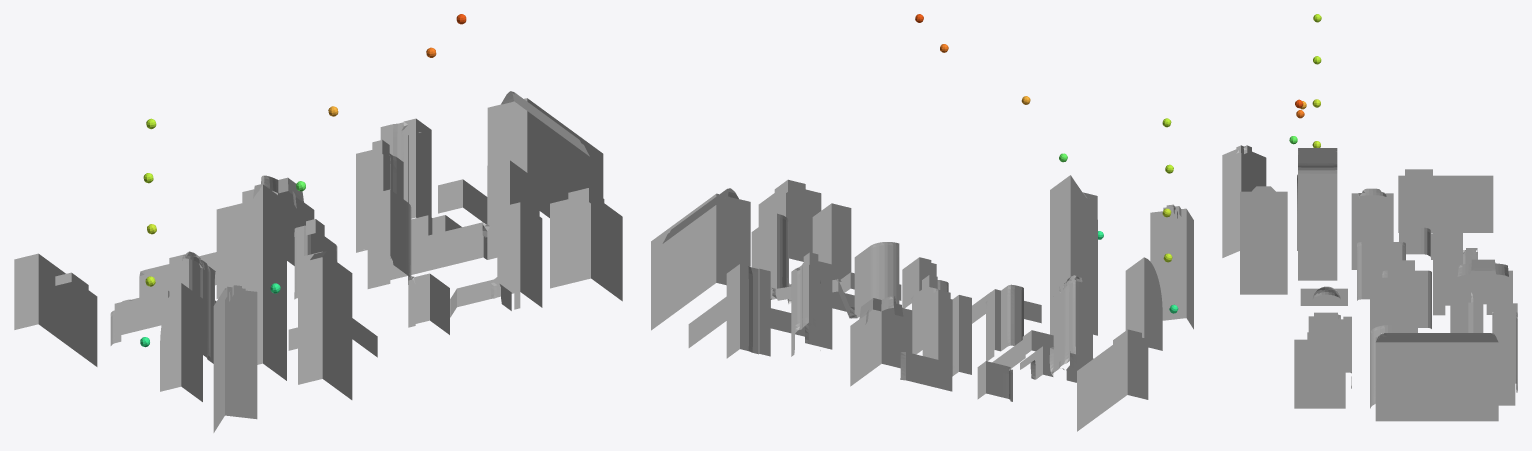
File: wabAnim_Attempt2_v1.1.glb
3 views of the same model, side by side, from view 1: azimuth 30°, elevation 25°; view 2: azimuth 150°, elevation 25°; view 3: azimuth 270°, elevation 25° (orthographic). The views are drawn at different scales.
Visible parts, largest first — view 1: mesh0, Renderer Node; view 2: mesh0, Renderer Node; view 3: mesh0, Renderer Node.
Part boxes in pixels (x1,y1,x2,y2): mesh0: [14, 91, 622, 432]; Renderer Node: [140, 14, 466, 347]; mesh0: [651, 175, 1193, 431]; Renderer Node: [915, 14, 1178, 313]; mesh0: [1222, 145, 1517, 421]; Renderer Node: [1289, 14, 1321, 147].
Size of what is drawn, in the model's own units: 229 by 137 by 140.
Materials: 2 (1 with a texture image).
